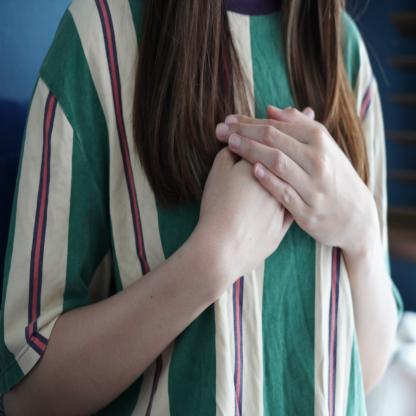Grieve: (163, 105, 393, 306)
